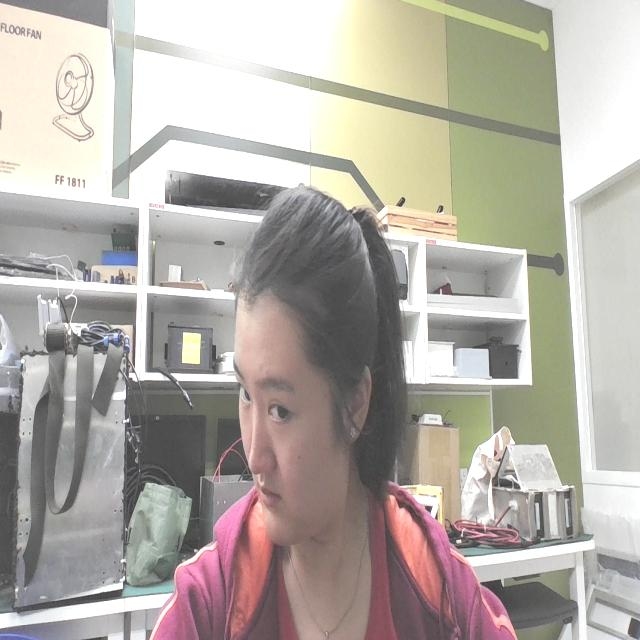Without Helmet: (212, 161, 443, 579)
